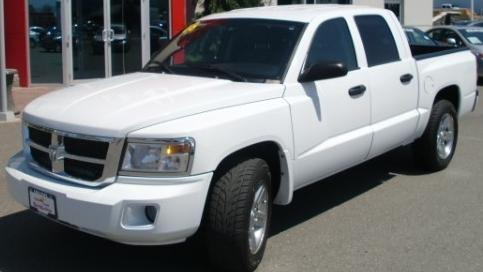front_view: (13, 109, 212, 239)
headlight: (106, 125, 196, 188)
side_glass: (295, 3, 406, 76)
